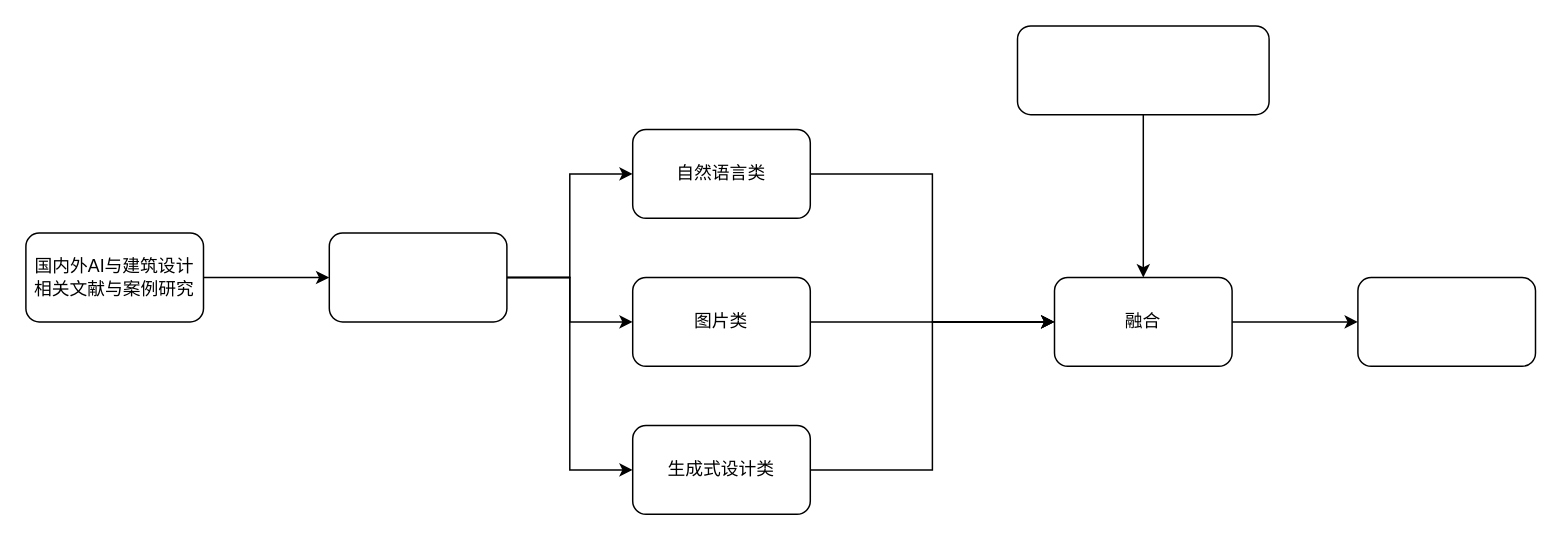
Image size: 1561x540. Some labels were removed from this diagram. Each missing label, with the centre of its shape:
"成功案例梳理" goes at (417,277).
"成果（？，论文，软件、网站、。。。）" goes at (1446,321).
"设计流程梳理" goes at (1142,69).
